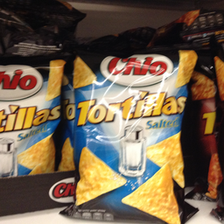chips: (72, 51, 196, 222), (1, 46, 67, 180)
